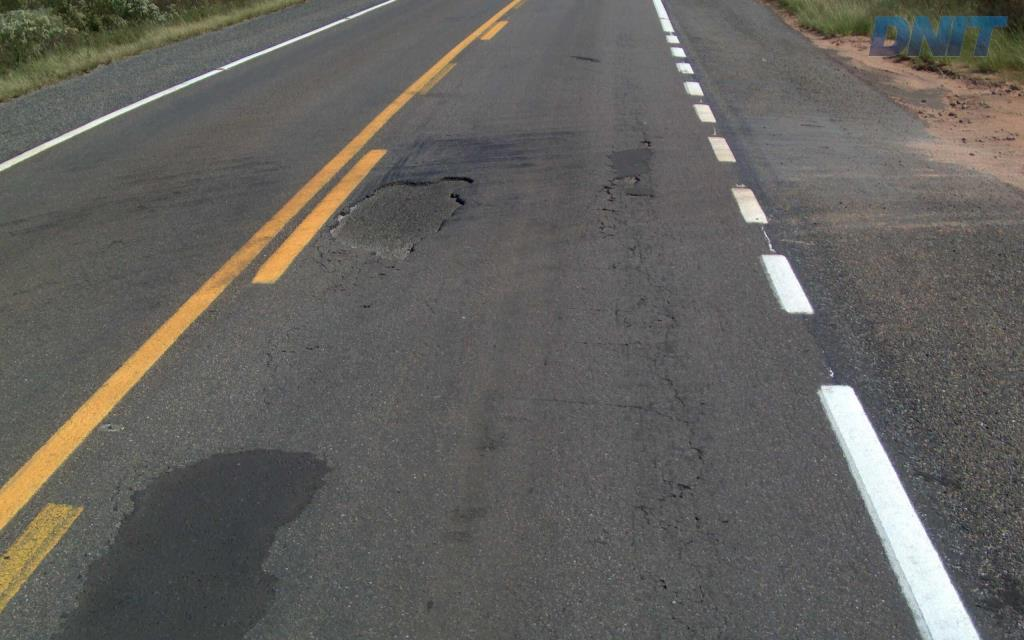pothole: (326, 172, 471, 256)
